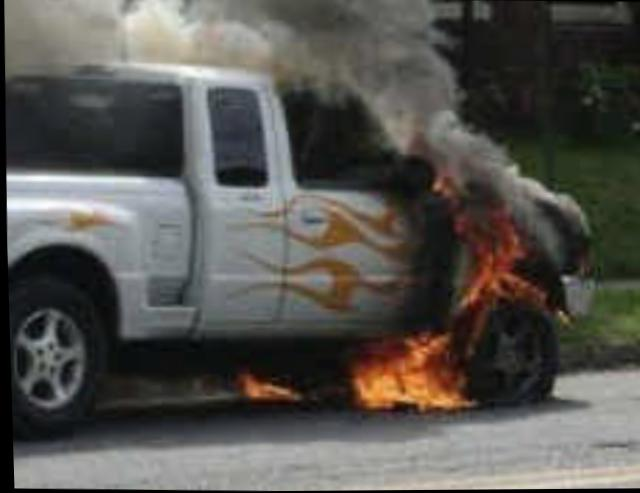fire: (425, 169, 579, 317), (338, 328, 477, 441), (219, 348, 310, 425)
